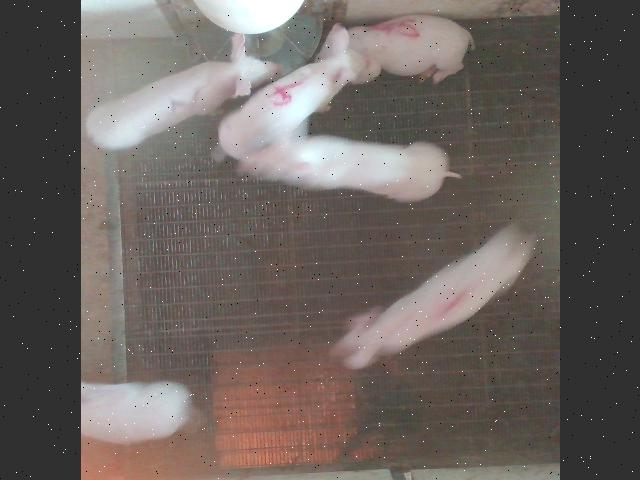pig-1: (330, 225, 534, 369)
pig-2: (86, 34, 282, 149)
pig-3: (82, 381, 189, 444)
pig-4: (218, 25, 380, 160)
pig-5: (348, 15, 472, 84)
